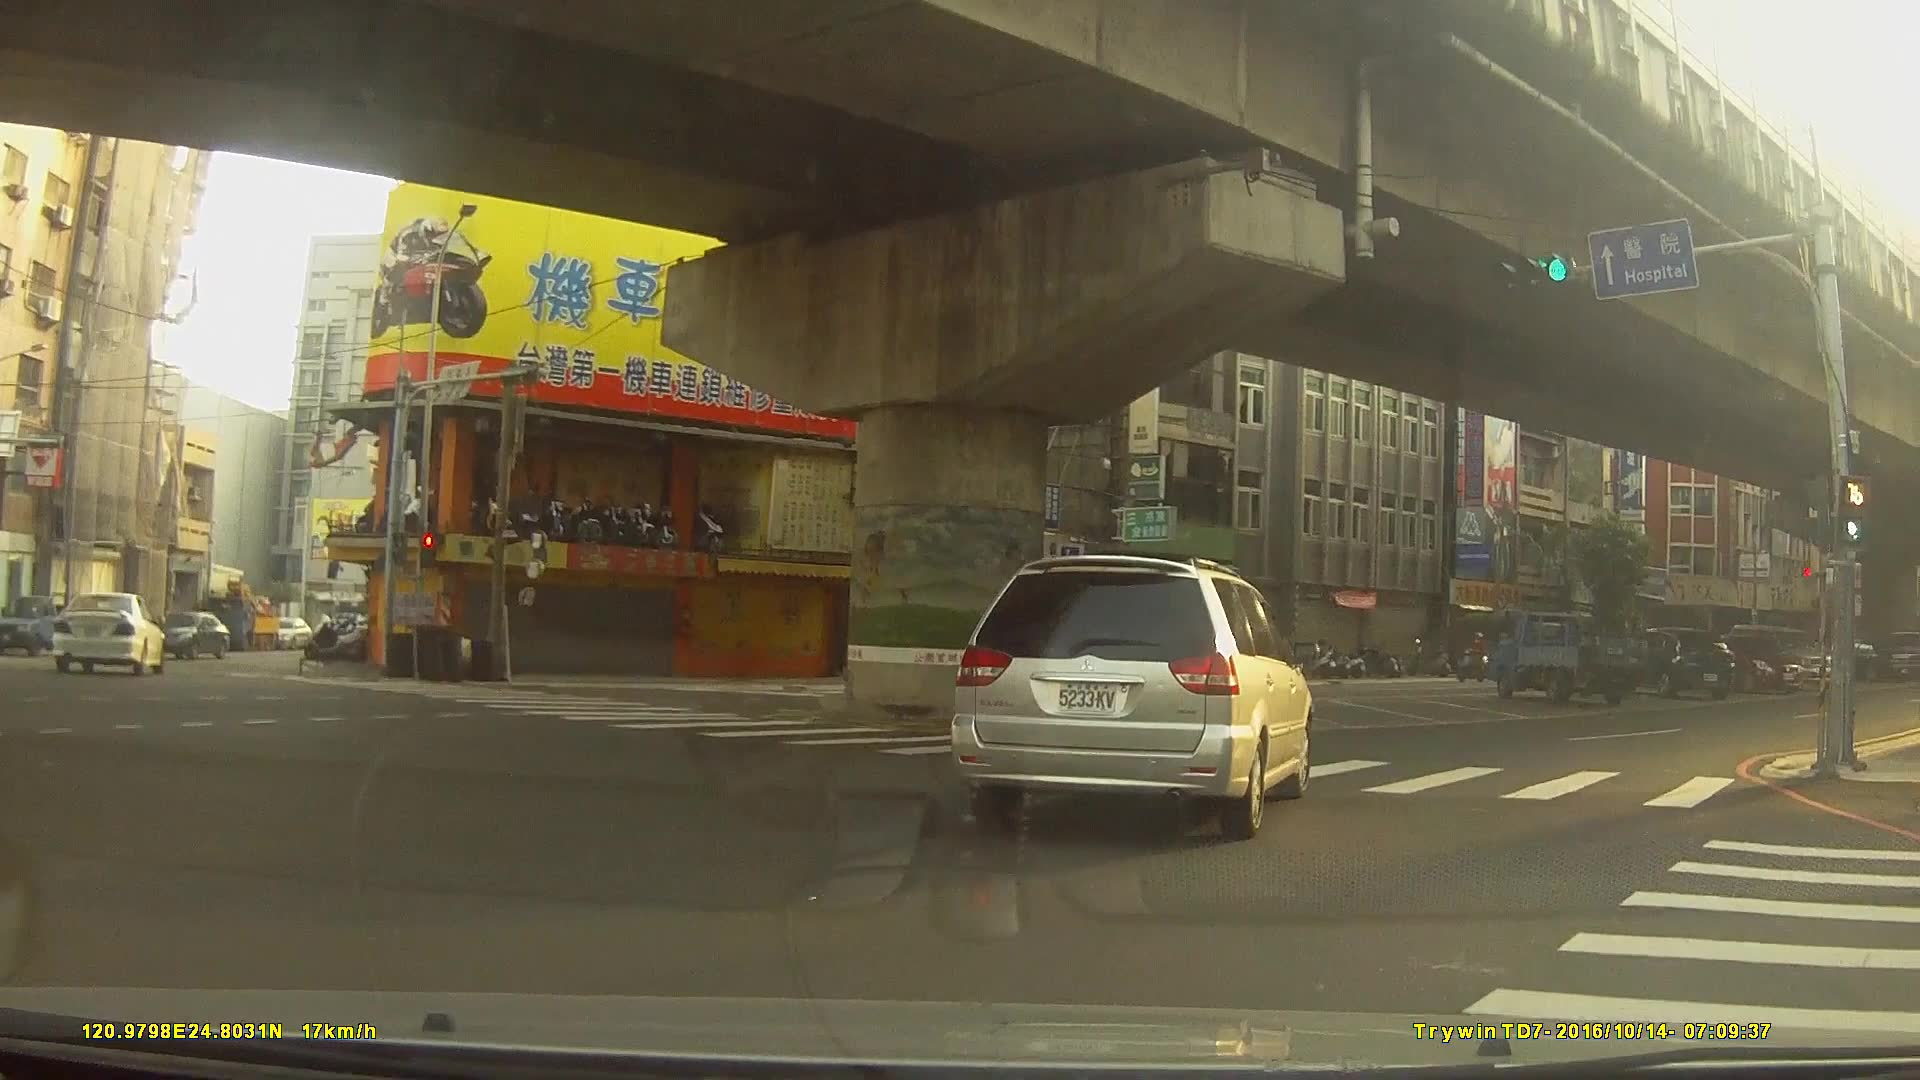rider: (1460, 631, 1495, 681)
vehicle: (947, 554, 1312, 840), (1482, 610, 1648, 707), (49, 589, 165, 676), (1606, 624, 1734, 697), (1701, 630, 1803, 692), (0, 593, 79, 654), (153, 608, 226, 657), (268, 616, 311, 647)
